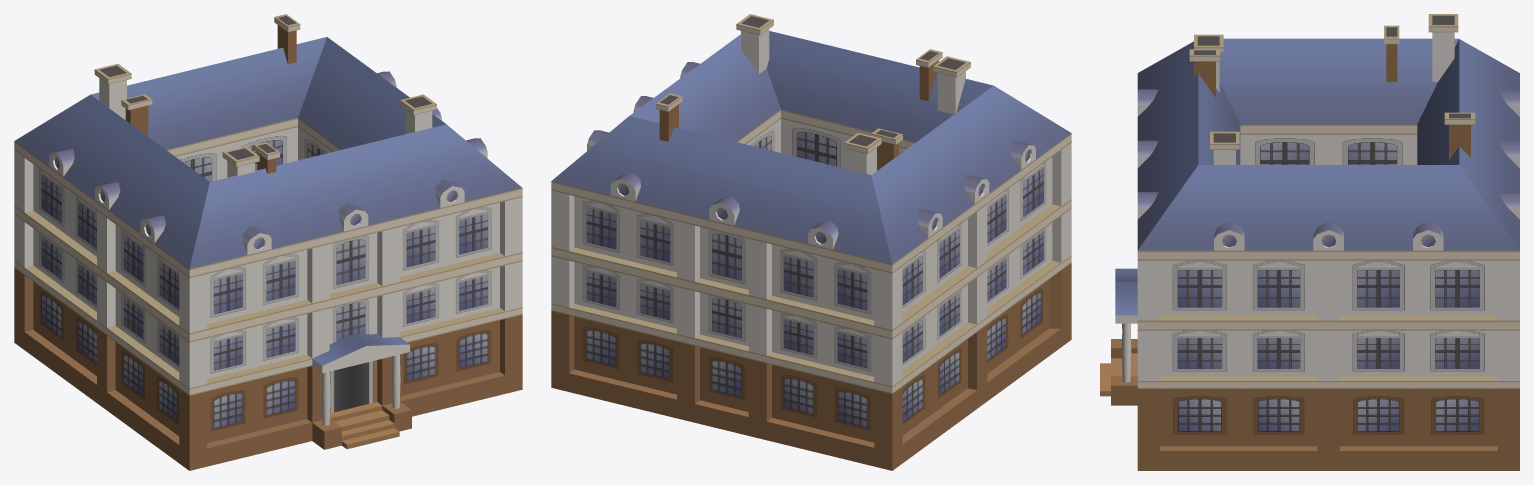
File: Bat_Banque.fbx
3 renders of one model, left to right at view 1: azimuth 30°, elevation 25°; view 2: azimuth 150°, elevation 25°; view 3: azimuth 270°, elevation 25°, orthographic. The views are drawn at different scales.
Visible parts, largest first — view 1: Bat_Banque; view 2: Bat_Banque; view 3: Bat_Banque.
Boxes of the visible parts, box(x1,y1,x2,y2) form: Bat_Banque: box(14, 14, 522, 470); Bat_Banque: box(551, 14, 1071, 470); Bat_Banque: box(1100, 14, 1519, 470).
Size of the model in its own units: 38 by 30.8 by 38.
